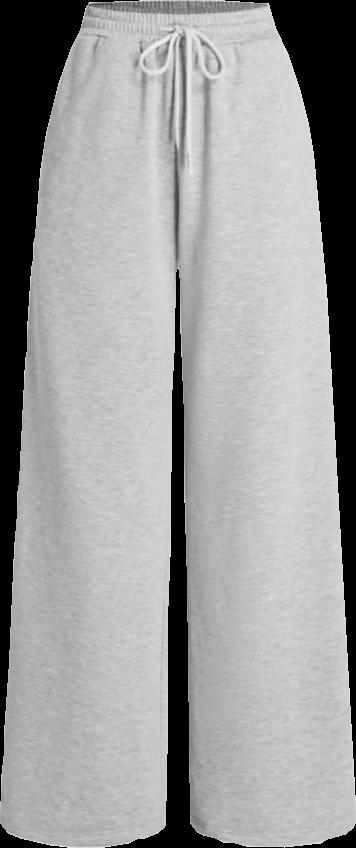Hemline: (0, 818, 169, 847), (187, 818, 355, 847)
Pantleg: (0, 1, 184, 847), (175, 0, 355, 845)
Waistline: (78, 24, 282, 43), (85, 0, 275, 18)
